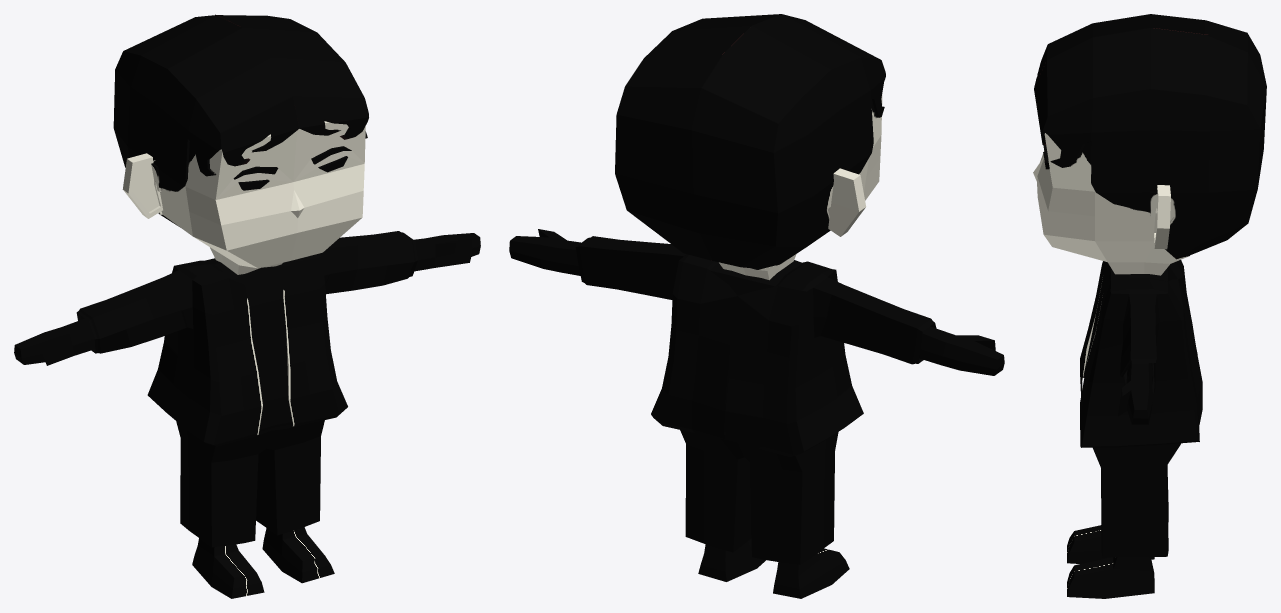
The model's file is Kenji.fbx.
The picture shows the model from 3 angles, left to right: view 1: azimuth 30°, elevation 25°; view 2: azimuth 150°, elevation 25°; view 3: azimuth 270°, elevation 25°; orthographic projection. The views are drawn at different scales.
Parts seen in each view (by area): view 1: Cube.001, Cube1.002, Cube1.001, Cube1, Cube, Cube.002; view 2: Cube.001, Cube1.002, Cube1.001, Cube1, Cube, Cube.002; view 3: Cube.001, Cube1.002, Cube1.001, Cube, Cube1, Cube.002.
Boxes of the visible parts, x1=… form: Cube.001: x1=113, y1=14, x2=368, y2=274; Cube1.002: x1=76, y1=231, x2=417, y2=446; Cube1.001: x1=176, y1=420, x2=324, y2=547; Cube1: x1=14, y1=233, x2=480, y2=431; Cube: x1=192, y1=527, x2=334, y2=598; Cube.002: x1=122, y1=153, x2=162, y2=218; Cube.001: x1=615, y1=14, x2=885, y2=280; Cube1.002: x1=575, y1=236, x2=936, y2=456; Cube1.001: x1=680, y1=430, x2=838, y2=564; Cube1: x1=509, y1=229, x2=1004, y2=434; Cube: x1=698, y1=538, x2=849, y2=598; Cube.002: x1=828, y1=168, x2=866, y2=236; Cube.001: x1=1033, y1=14, x2=1266, y2=275; Cube1.002: x1=1080, y1=260, x2=1202, y2=447; Cube1.001: x1=1092, y1=443, x2=1180, y2=557; Cube: x1=1067, y1=525, x2=1154, y2=598; Cube1: x1=1085, y1=262, x2=1177, y2=424; Cube.002: x1=1154, y1=185, x2=1170, y2=249.
Size of the model in its own units: 373 by 413 by 160.
